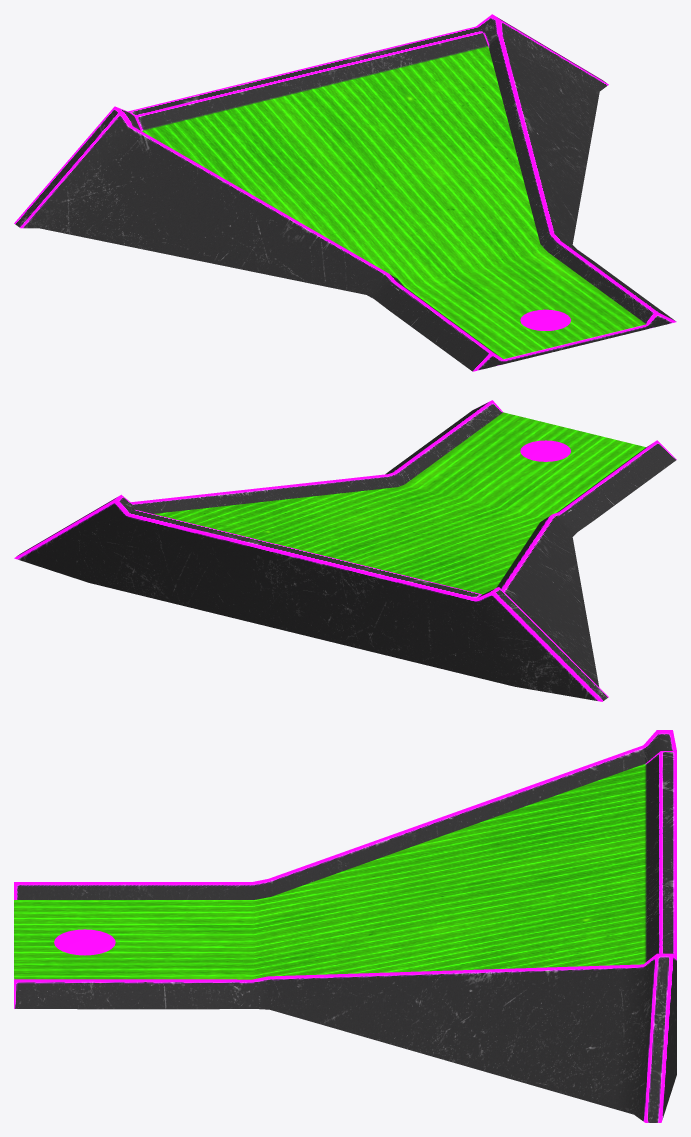
Rendered from skeeball1ramp.glb.
3 views of the same model, one above another, from view 1: azimuth 30°, elevation 25°; view 2: azimuth 150°, elevation 25°; view 3: azimuth 270°, elevation 25° (orthographic). The views are drawn at different scales.
Parts seen in each view (by area): view 1: golfCourseRamp; view 2: golfCourseRamp; view 3: golfCourseRamp.
Part boxes in pixels (x1,y1,x2,y2): golfCourseRamp: [14, 14, 676, 371]; golfCourseRamp: [14, 400, 676, 701]; golfCourseRamp: [14, 730, 676, 1122].
Size of what is drawn, in the model's own units: 9.47 by 1.35 by 7.61.
1 material, 1 textured.
